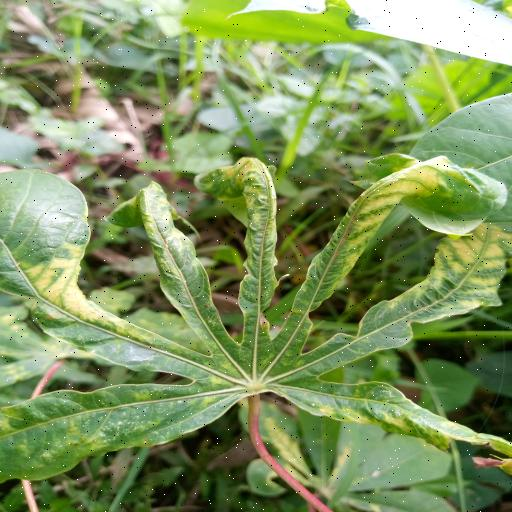Cassava_Mosaic: (0, 152, 512, 486)
